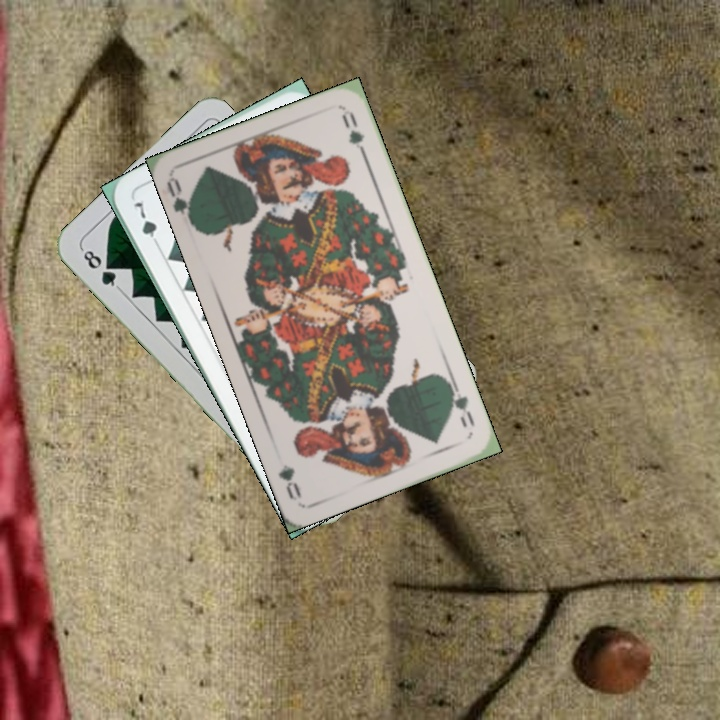G7: (129, 197, 163, 251)
G8: (77, 245, 123, 292)
GO: (162, 174, 198, 230), (446, 378, 478, 430)
